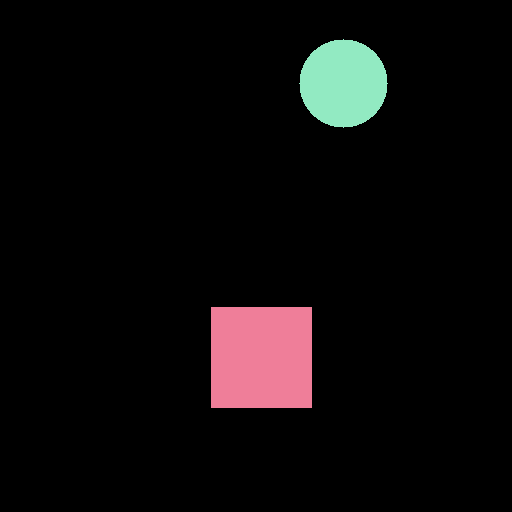circle: (299, 39, 387, 127)
square: (211, 307, 311, 407)
